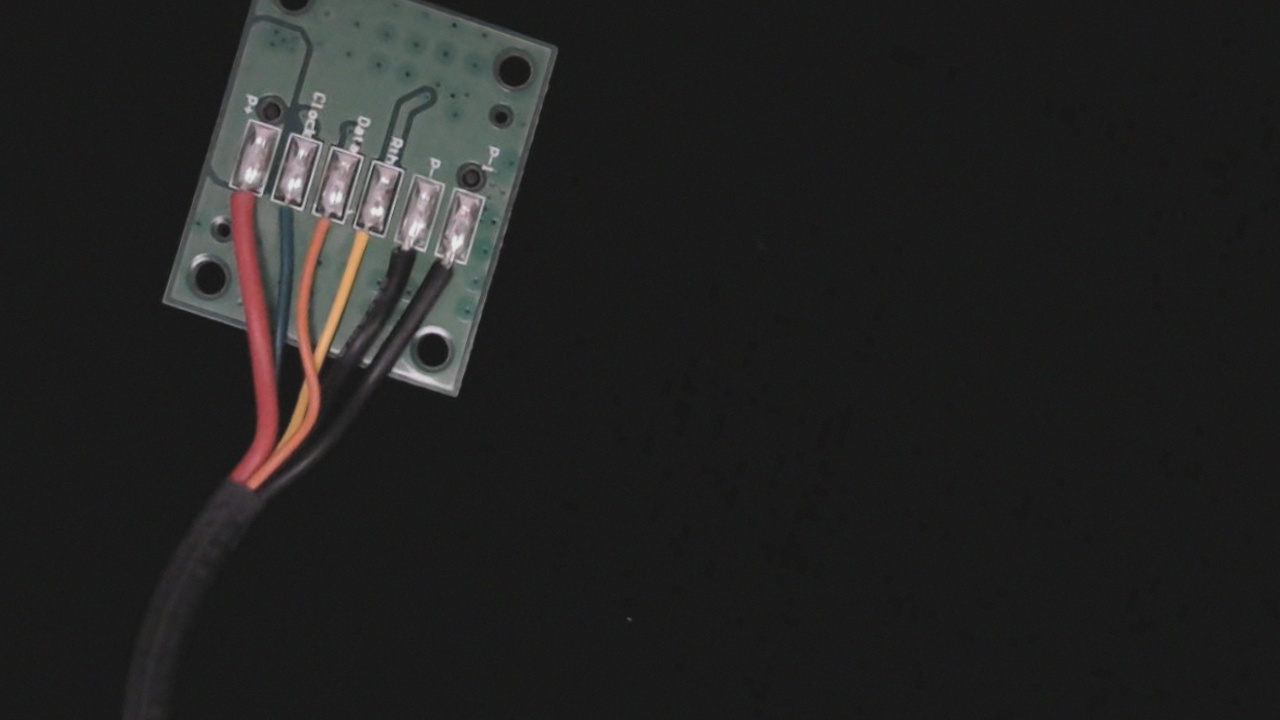Black: (379, 226, 429, 298)
Black1: (417, 239, 471, 311)
Green: (260, 184, 310, 252)
Orange: (298, 197, 347, 269)
Red: (210, 172, 267, 245)
Yellow: (337, 210, 387, 284)
